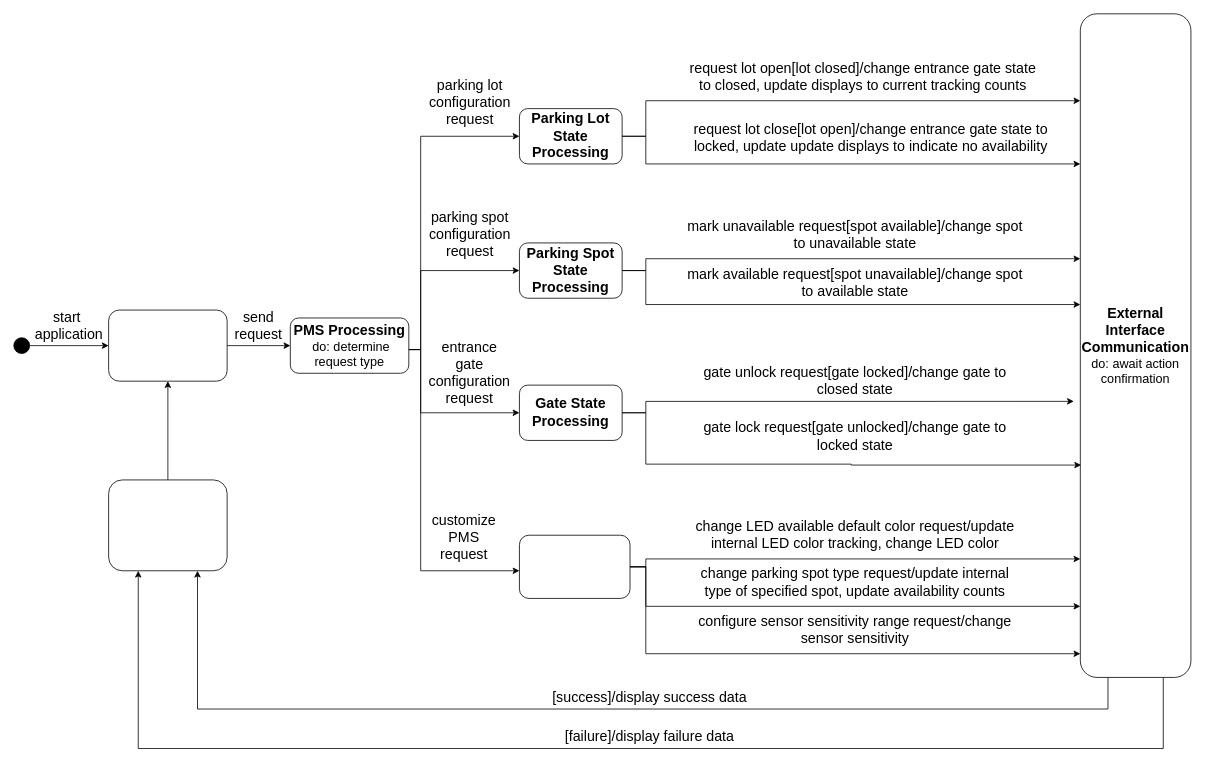
The diagram is 1205 pixels wide and 769 high, and some of its shapes have lost their labels. Each missing label, with the centre of its shape:
"Admin Main Control do: await admin request" goes at point (167, 345).
"PMS Customization Processing" goes at point (574, 566).
"Update do: update application and display user-feedback" goes at point (167, 525).
